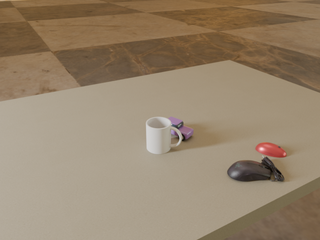cup: (146, 117, 182, 154)
mouse: (227, 156, 284, 181), (256, 142, 286, 157)
toy_car: (168, 117, 193, 141)
